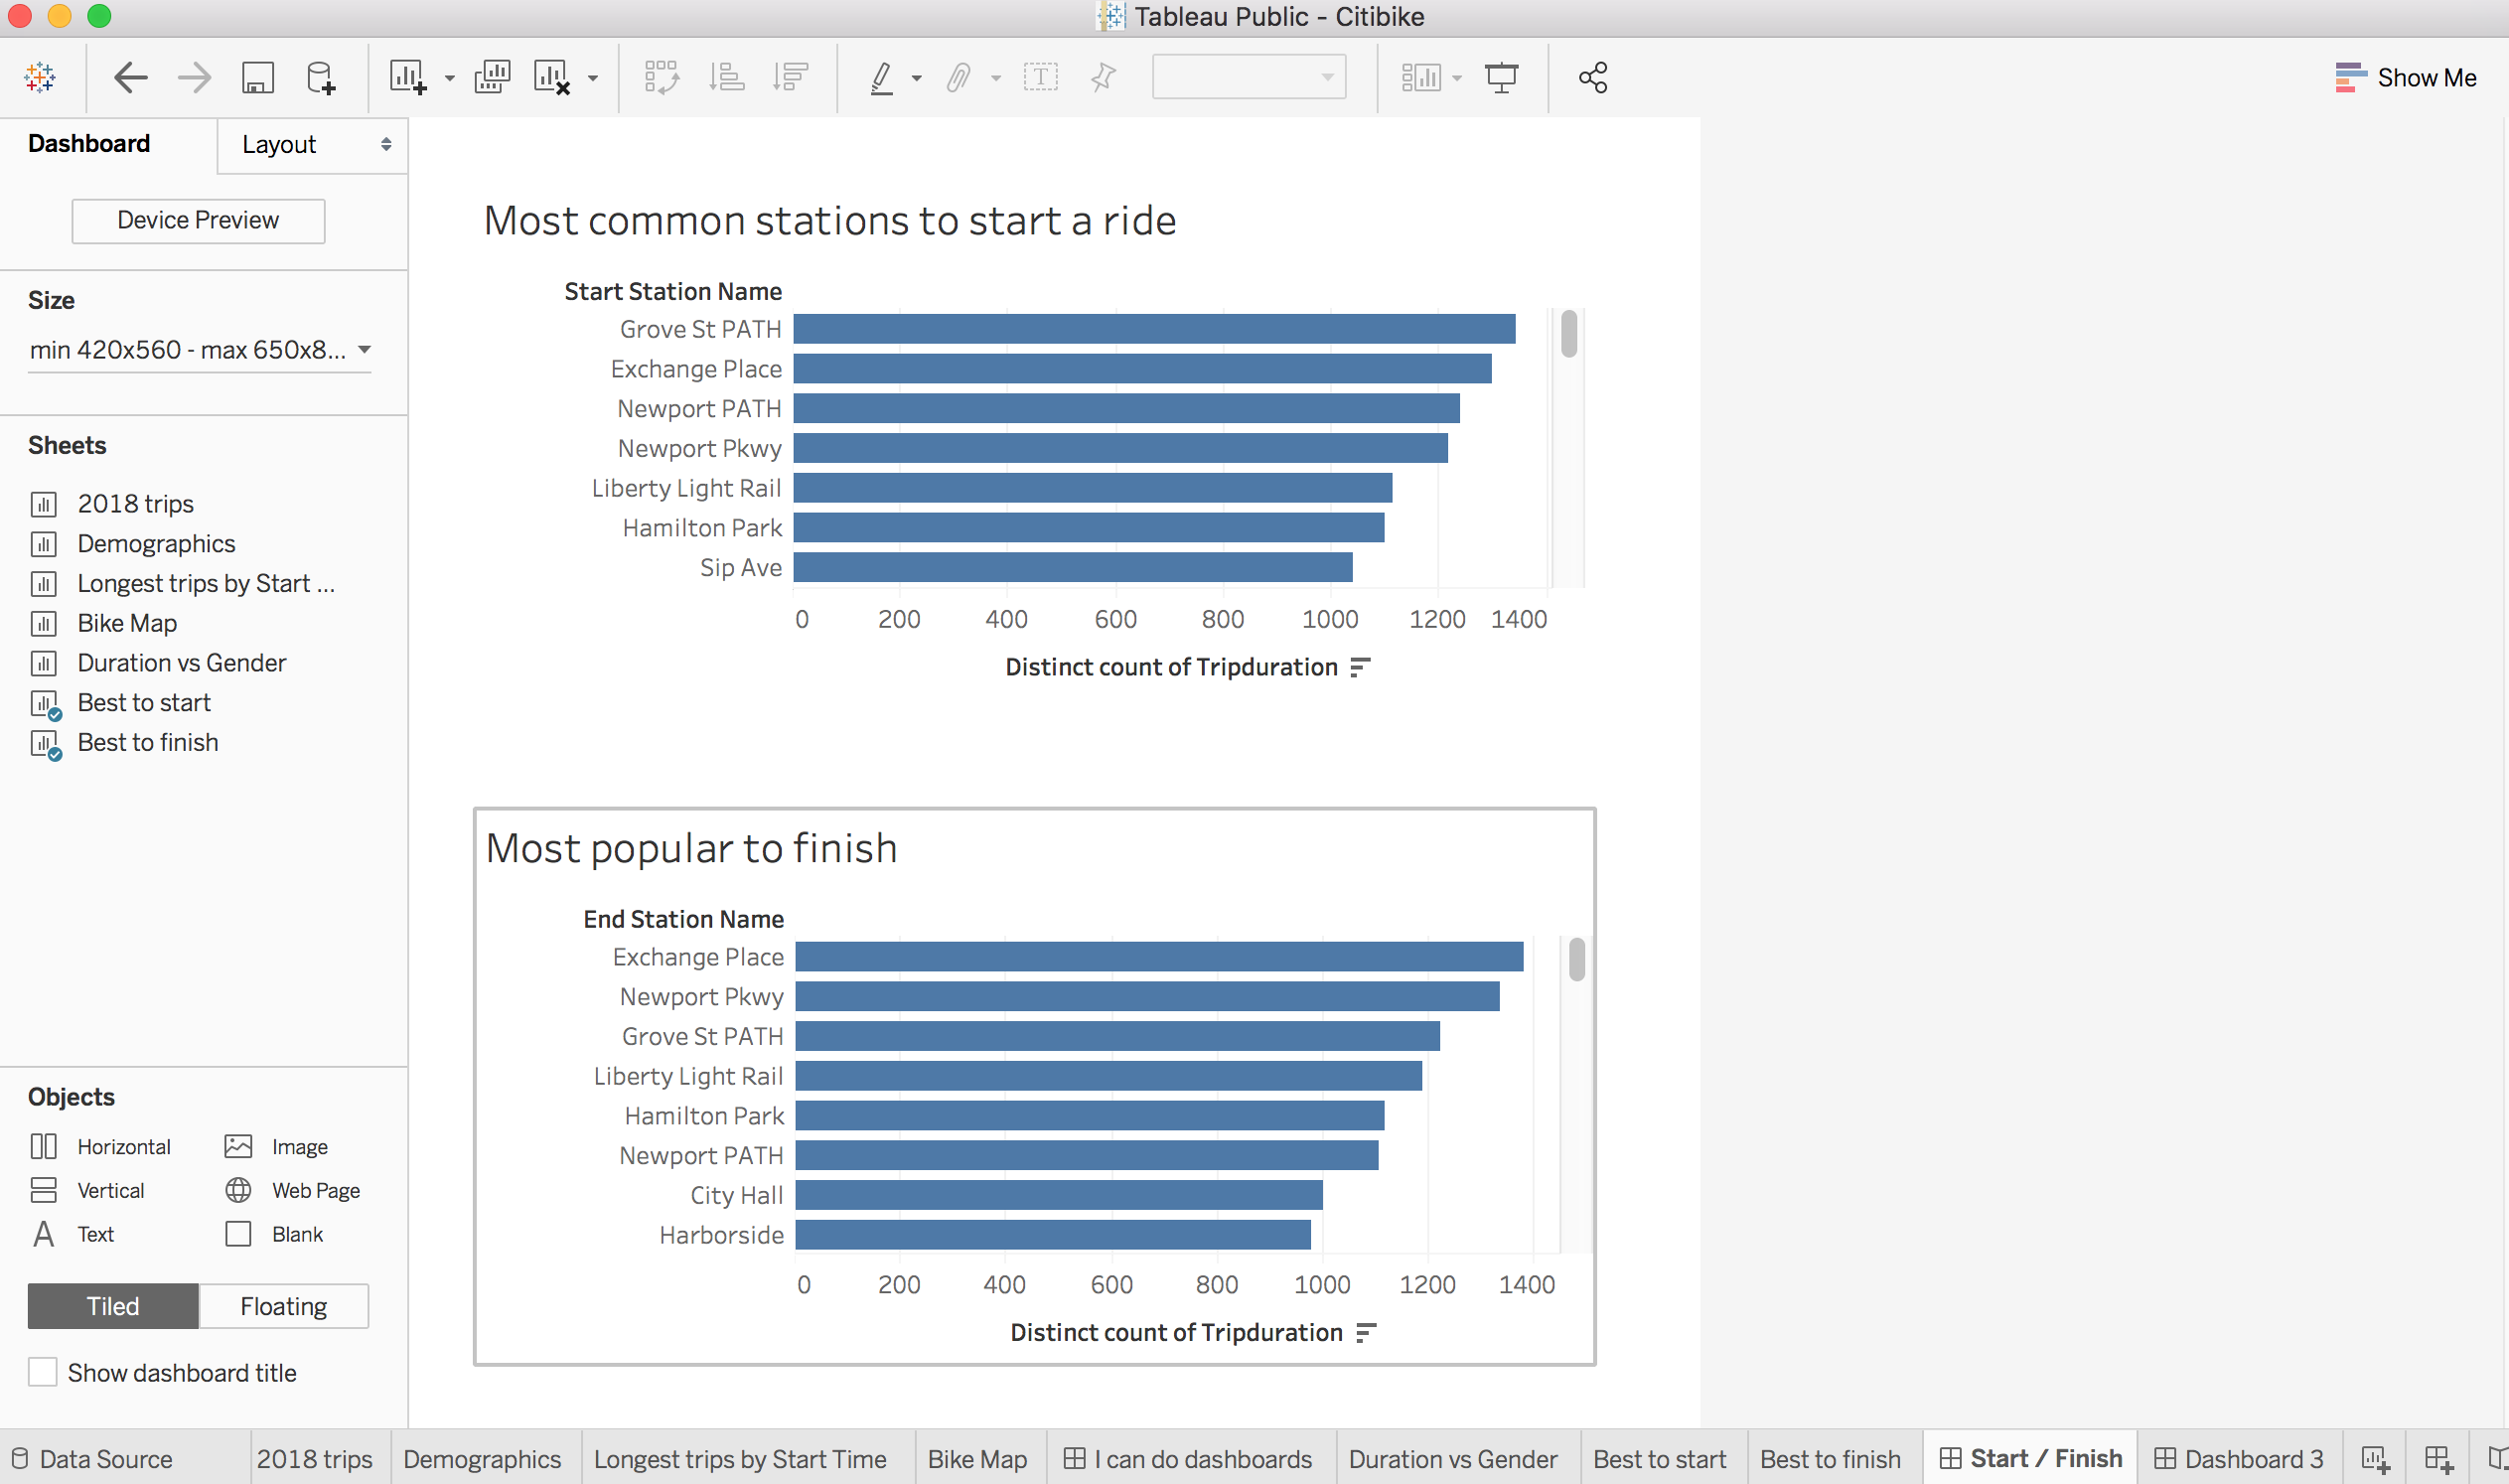

The page's visual inventory and layout, read from the dashboard file:
{"tool":"tableau","page":{"name":"Start / Finish","canvas":[650,860],"ordinal":2},"visuals":[{"type":"worksheet","title":"Best to start","mark":"Automatic","rows":["start station name"],"cols":["tripduration"],"box":[33,43,559,337.5]},{"type":"worksheet","title":"Best to finish","mark":"Automatic","rows":["end station name"],"cols":["tripduration"],"box":[34,454.8,562,362.2]}]}

Visuals, with their boxes on the page's 650x860 design canvas (x1, y1, x2, y2). These are canvas units, not pixel positions in the 2509x1484 screenshot, which may show the page scaled, cropped or inside an application window:
"Best to start" worksheet: 33 43 592 380
"Best to finish" worksheet: 34 455 596 817
